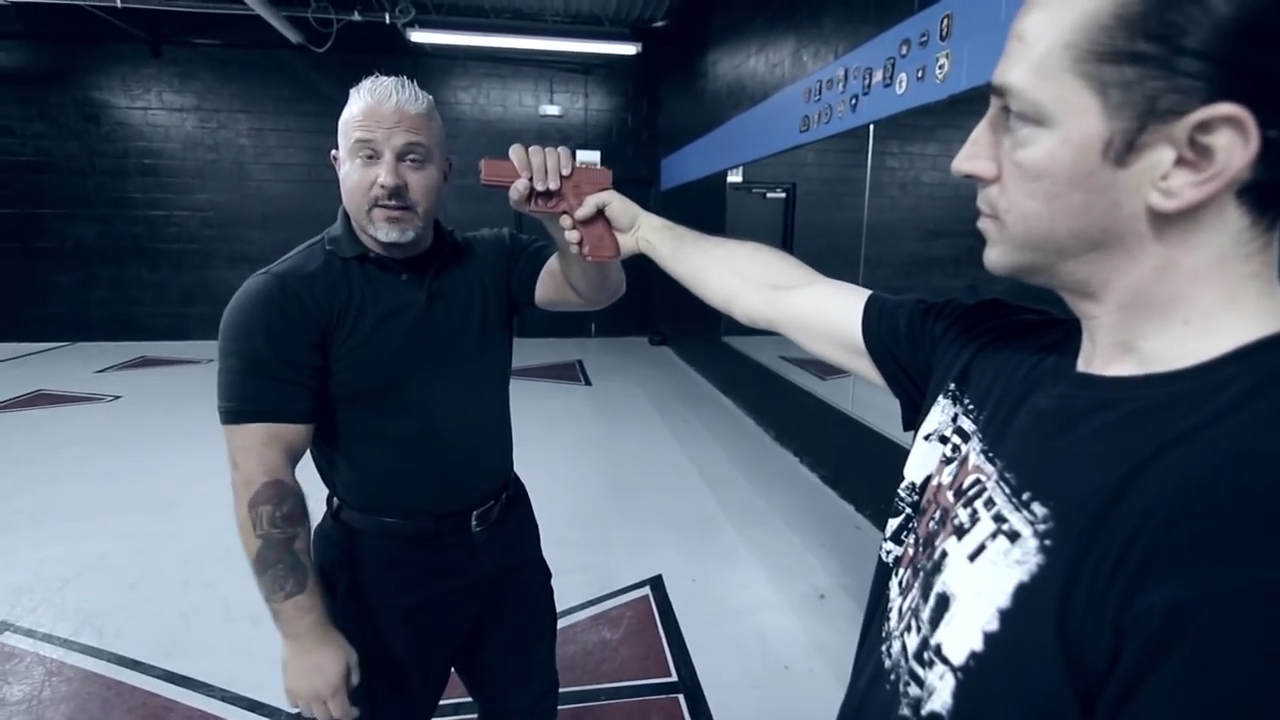pistol: (476, 155, 623, 264)
